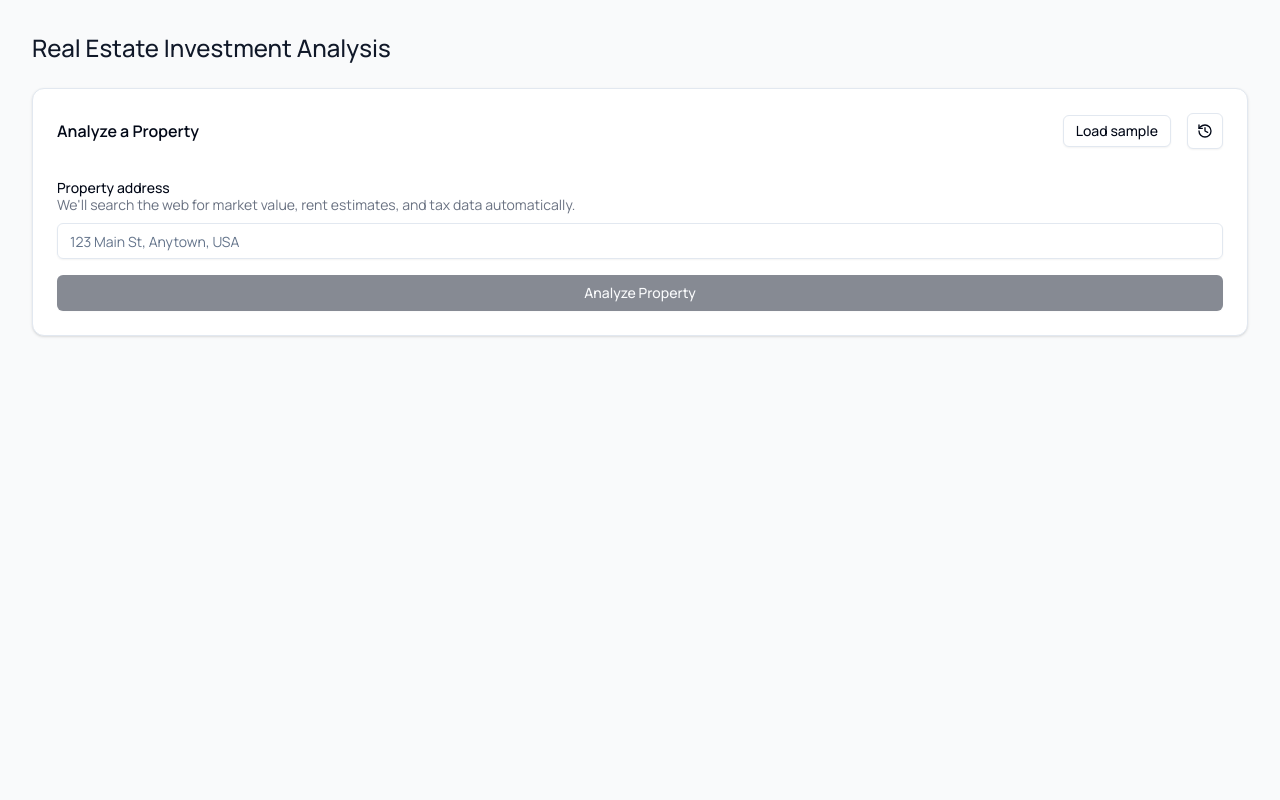
Test: Real Estate Investment Analysis page › renders the structured result UI (not raw markdown) on a valid schema response
The width and height of the screenshot is (1280, 800).
Type "742 Evergreen Terrace, Springfield, IL 62704" into the field labelled "Property address". click: (640, 241)
box: [57,223,1223,259]
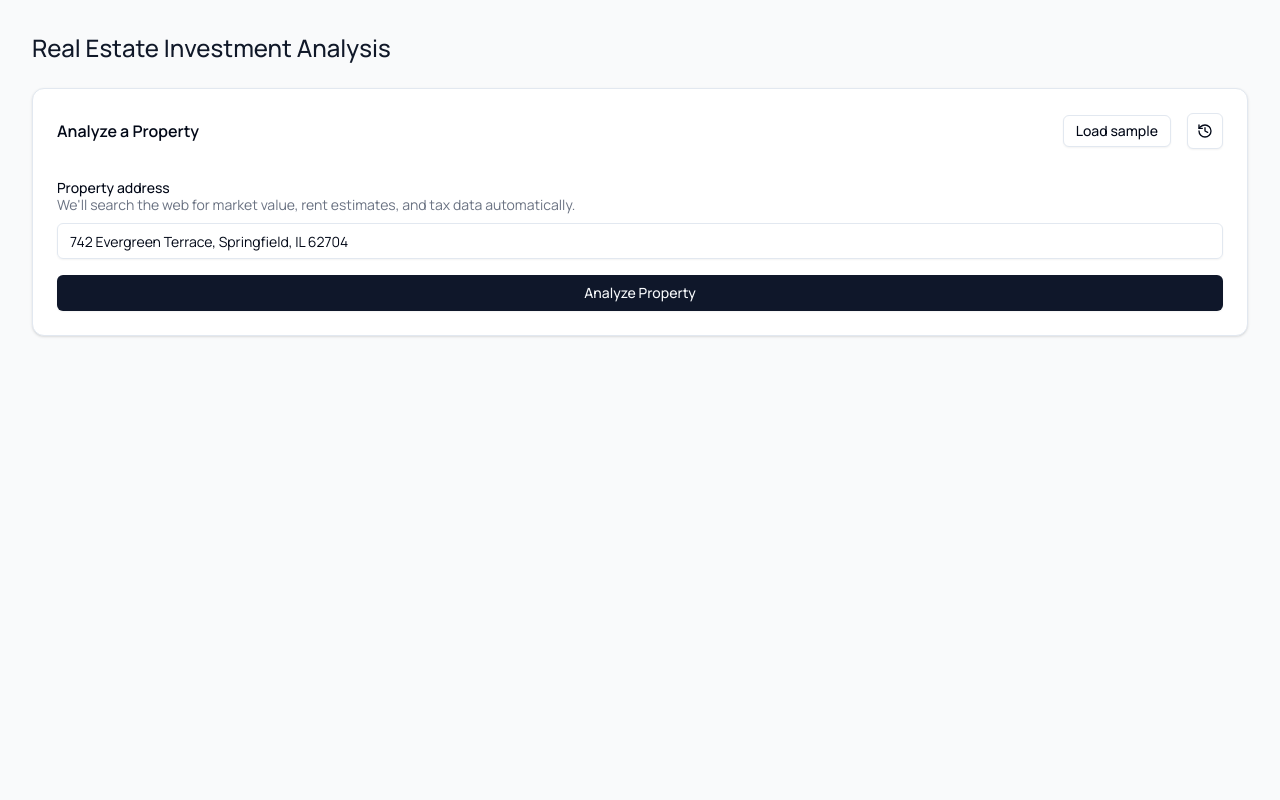
Click the button "Analyze Property". click: (640, 293)
box: [57,275,1223,311]
(page scrolled)
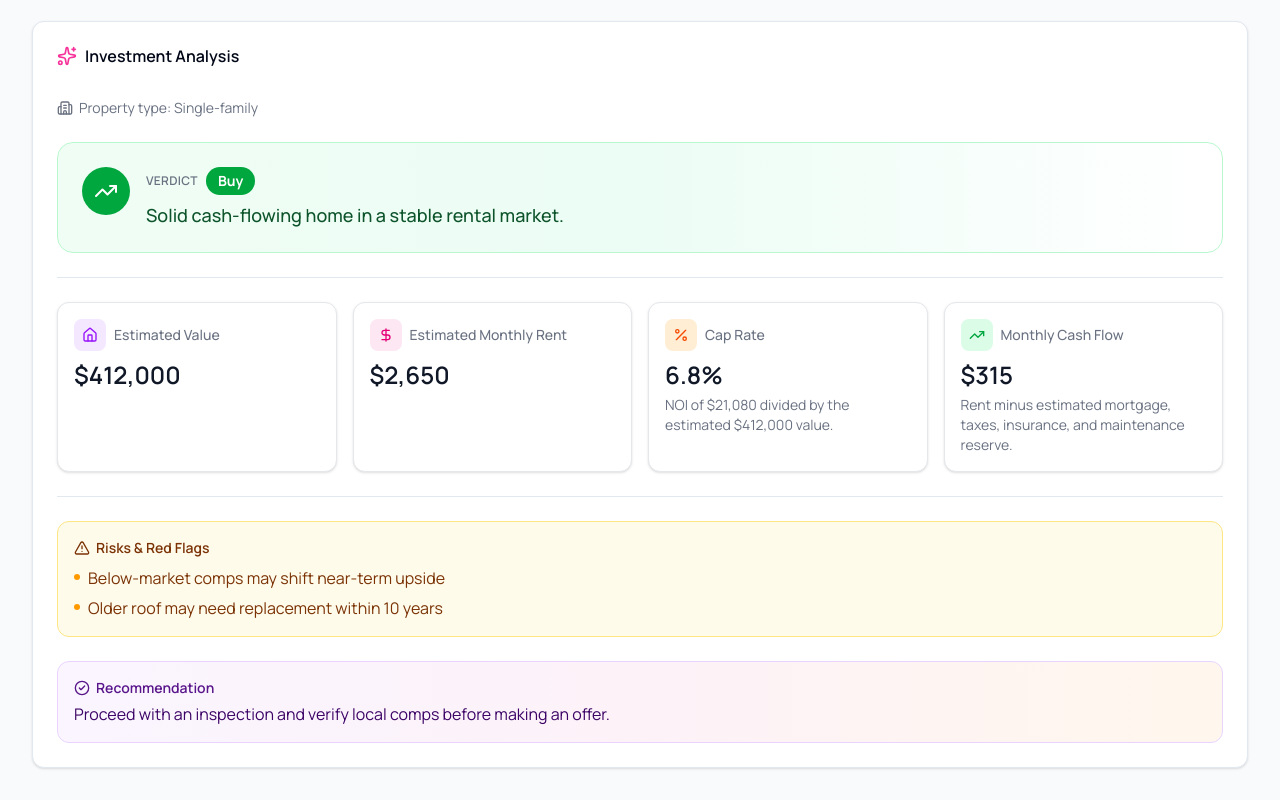
Check: the text "Buy" is shown, box [206,167,255,195]
Check: the text "$412,000" is shown, box [74,358,181,391]
Check: the text "$2,650" is shown, box [370,358,450,391]
